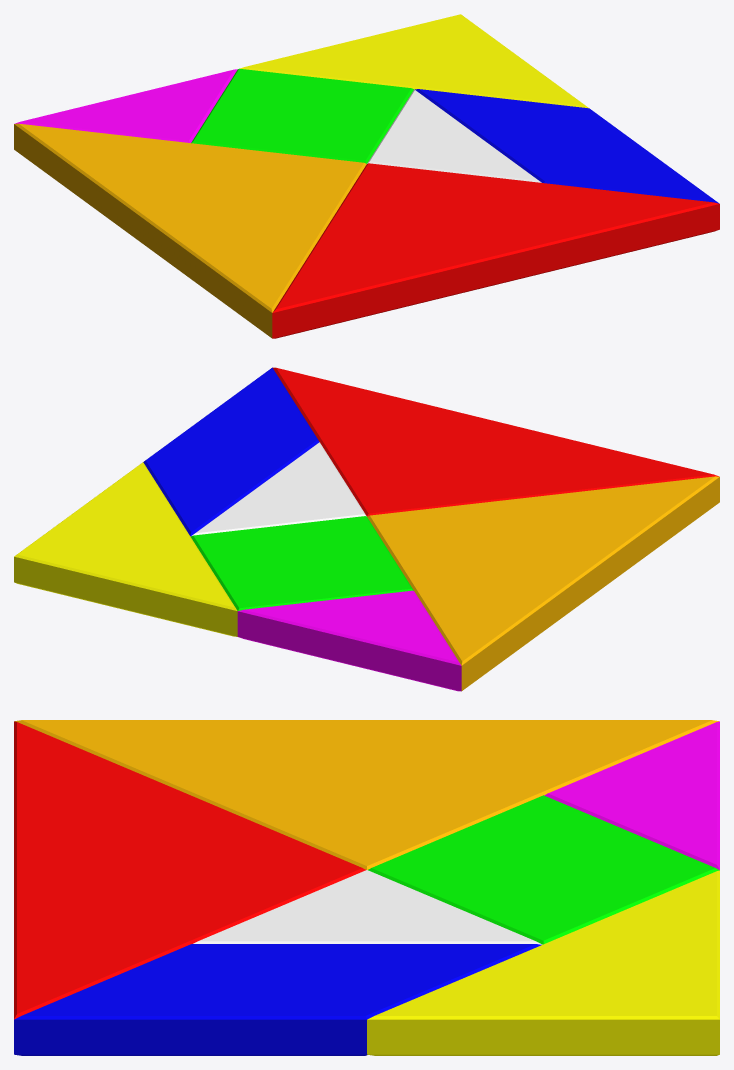
Rendered from TangramPuzzle.fbx.
3 views of the same model, one above another, from view 1: azimuth 30°, elevation 25°; view 2: azimuth 150°, elevation 25°; view 3: azimuth 270°, elevation 25° (orthographic). The views are drawn at different scales.
Parts seen in each view (by area): view 1: RedT, OrangeT, Parallelogram, Square, YellowT, PinkT, WhiteT; view 2: OrangeT, RedT, YellowT, Square, Parallelogram, PinkT, WhiteT; view 3: OrangeT, RedT, Parallelogram, YellowT, Square, PinkT, WhiteT.
Boxes of the visible parts, x1,y1,x2,y2 form: RedT: (272, 163, 719, 338); OrangeT: (14, 123, 366, 338); Parallelogram: (415, 89, 719, 203); Square: (191, 68, 413, 163); YellowT: (240, 14, 588, 108); PinkT: (14, 69, 237, 142); WhiteT: (367, 89, 541, 182); OrangeT: (367, 476, 719, 690); RedT: (272, 367, 718, 516); YellowT: (14, 462, 237, 636); Square: (191, 516, 413, 610); Parallelogram: (143, 367, 319, 536); PinkT: (237, 590, 461, 691); WhiteT: (192, 442, 366, 535); OrangeT: (15, 720, 718, 869); RedT: (14, 721, 365, 1019); Parallelogram: (14, 944, 541, 1055); YellowT: (367, 870, 719, 1055); Square: (368, 795, 719, 944); PinkT: (544, 721, 719, 870); WhiteT: (193, 870, 542, 944).
Bounding box in the file's own units: 400 × 25 × 400.
